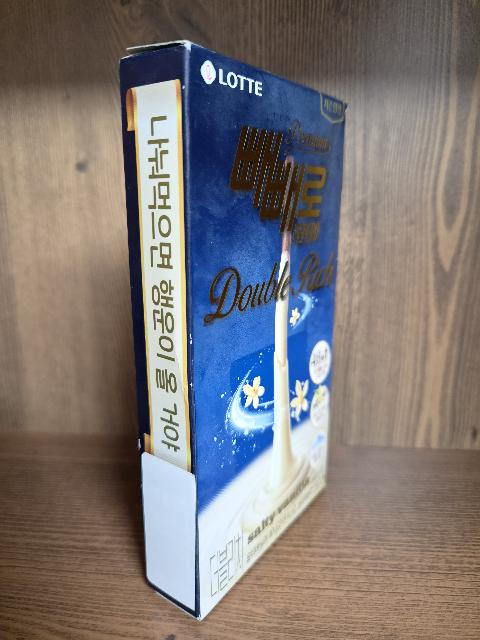pepero: (119, 40, 348, 621)
